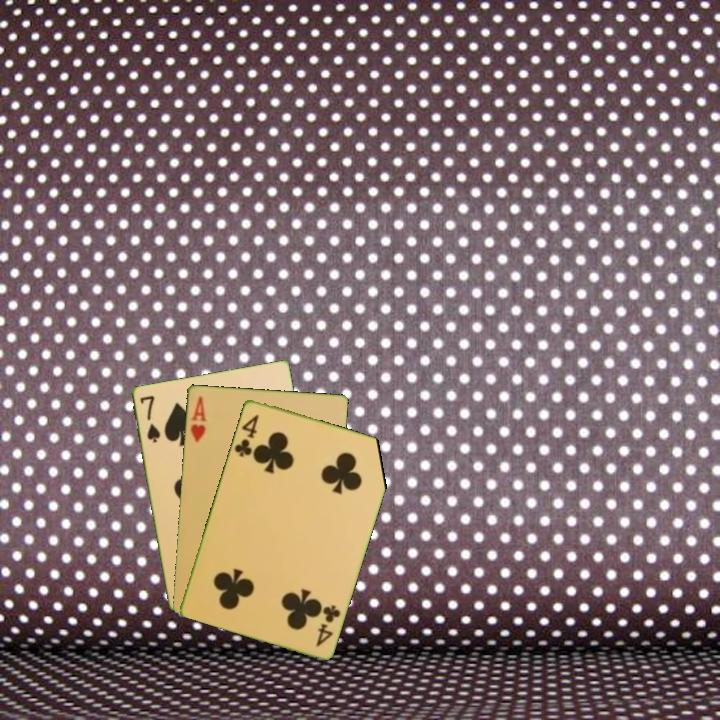4c: (312, 601, 343, 649), (231, 410, 261, 459)
7s: (136, 392, 163, 445)
Ah: (187, 392, 209, 445)
